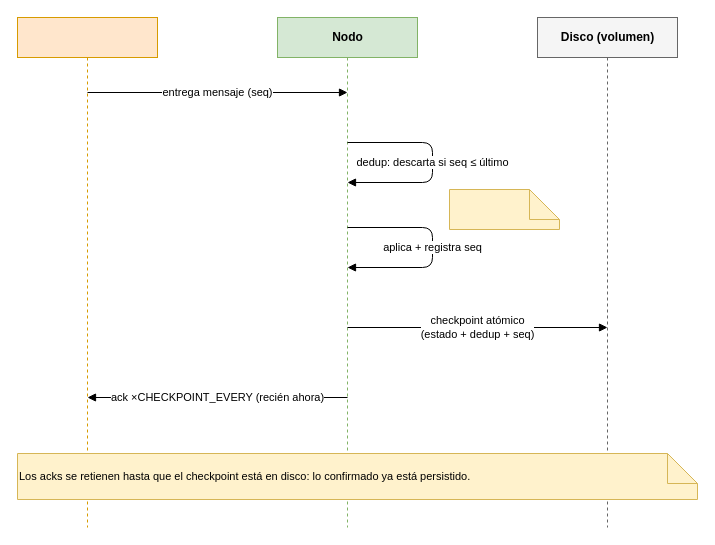
This 715x545 diagram has some shape labels left out. The box of each missing label's shape, as (x1, y1, x2, y2) in pixels:
batch de CHECKPOINT_EVERY: (448, 188, 560, 230)
RabbitMQ: (16, 16, 158, 528)
